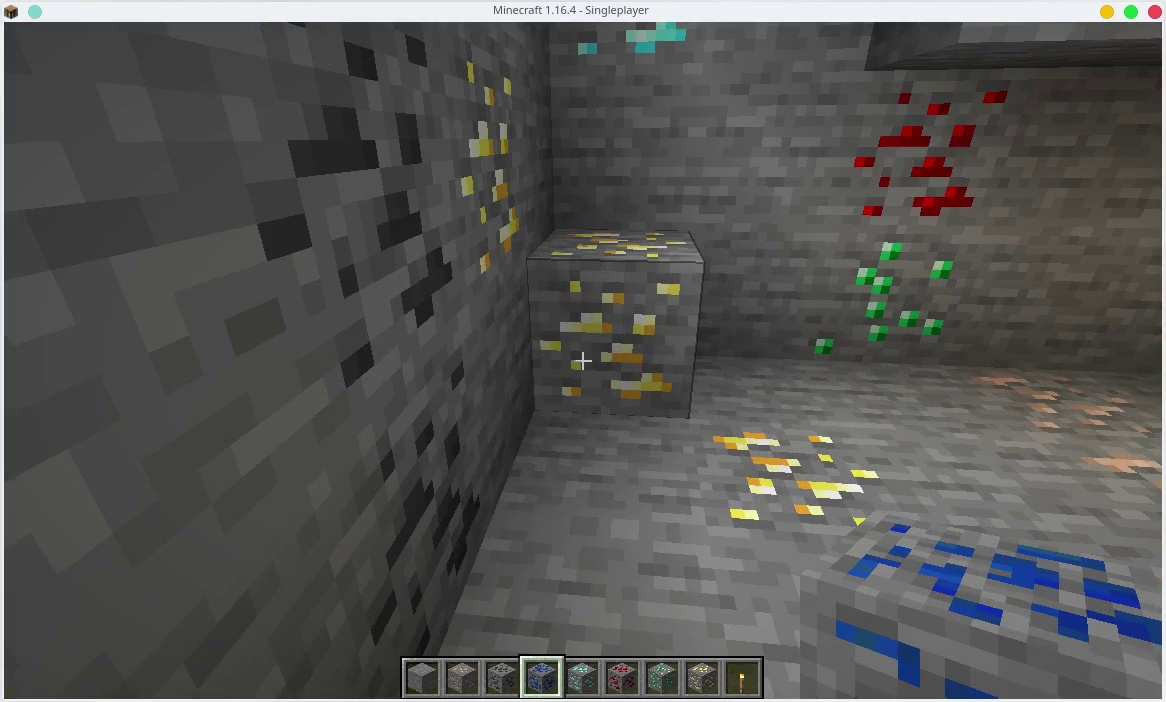gold: (531, 232, 698, 410), (715, 426, 877, 527), (458, 60, 523, 279), (687, 660, 721, 692)
